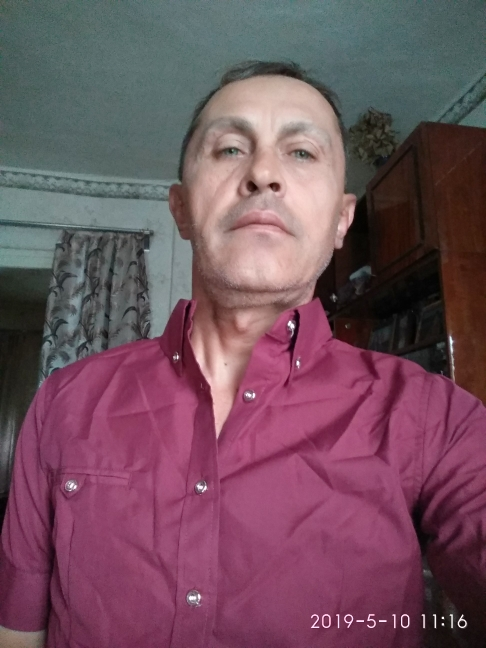shirts: (27, 297, 469, 648)
